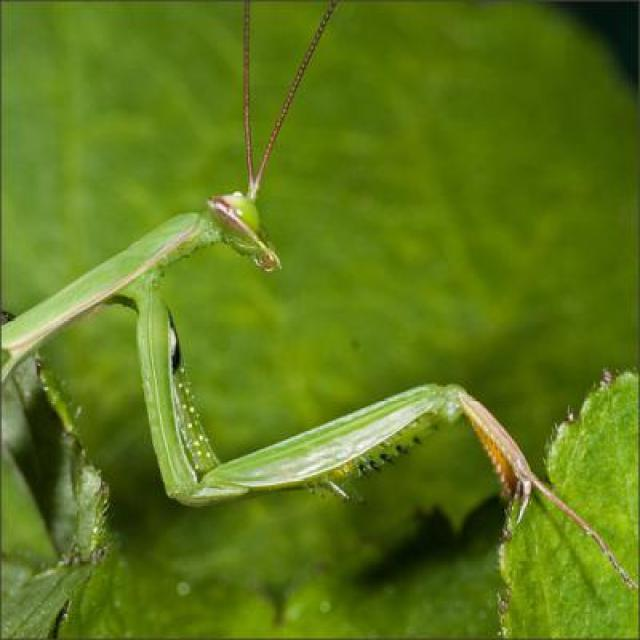antennae: (250, 3, 337, 198), (238, 0, 258, 191)
body: (0, 192, 278, 386)
insect: (0, 6, 579, 529)
legs: (101, 285, 577, 531)
mouthpart: (248, 246, 283, 276)
